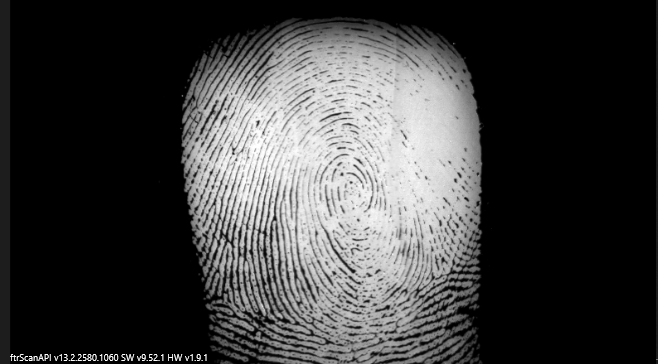nucelo: (324, 165, 368, 213)
verticilo: (208, 277, 242, 315), (421, 257, 445, 285)
